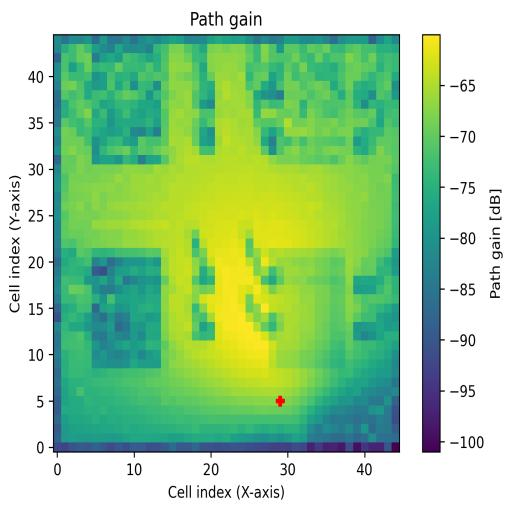Concrete: (268, 44, 345, 162)
Glass: (91, 42, 170, 163)
Metal: (268, 248, 346, 368)
Wood: (92, 248, 162, 370)
